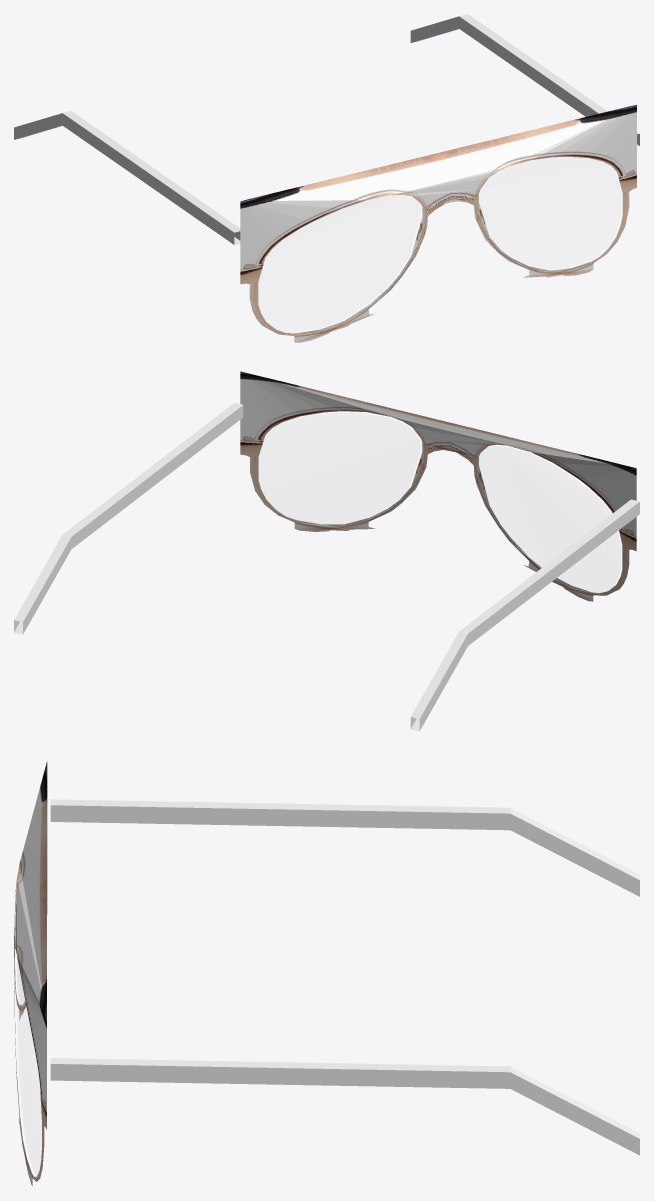
The model's file is gothamstyle-stainless-34_matte-gold.glb.
The picture shows the model from 3 angles, top to bottom: view 1: azimuth 30°, elevation 25°; view 2: azimuth 150°, elevation 25°; view 3: azimuth 270°, elevation 25°; orthographic projection. The views are drawn at different scales.
Parts seen in each view (by area): view 1: frame_front, temple_viewer_left, temple_viewer_right; view 2: frame_front, temple_viewer_left, temple_viewer_right; view 3: temple_viewer_left, temple_viewer_right, frame_front.
Boxes of the visible parts, x1=… form: frame_front: x1=240, y1=104, x2=636, y2=342; temple_viewer_left: x1=14, y1=111, x2=240, y2=244; temple_viewer_right: x1=410, y1=14, x2=639, y2=146; frame_front: x1=240, y1=371, x2=636, y2=601; temple_viewer_left: x1=410, y1=499, x2=639, y2=731; temple_viewer_right: x1=14, y1=402, x2=243, y2=634; temple_viewer_left: x1=50, y1=799, x2=639, y2=896; temple_viewer_right: x1=50, y1=1058, x2=639, y2=1155; frame_front: x1=14, y1=761, x2=47, y2=1185.
Size of the model in its own units: 0.136 by 0.0482 by 0.136.
Materials: 3 (2 with a texture image).
